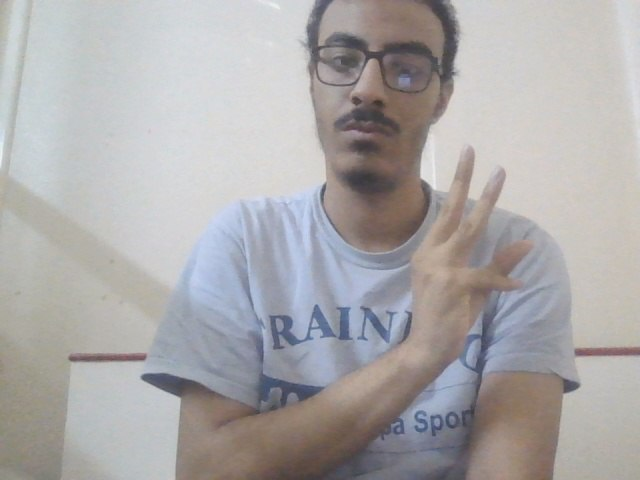Water: (409, 141, 539, 357)
